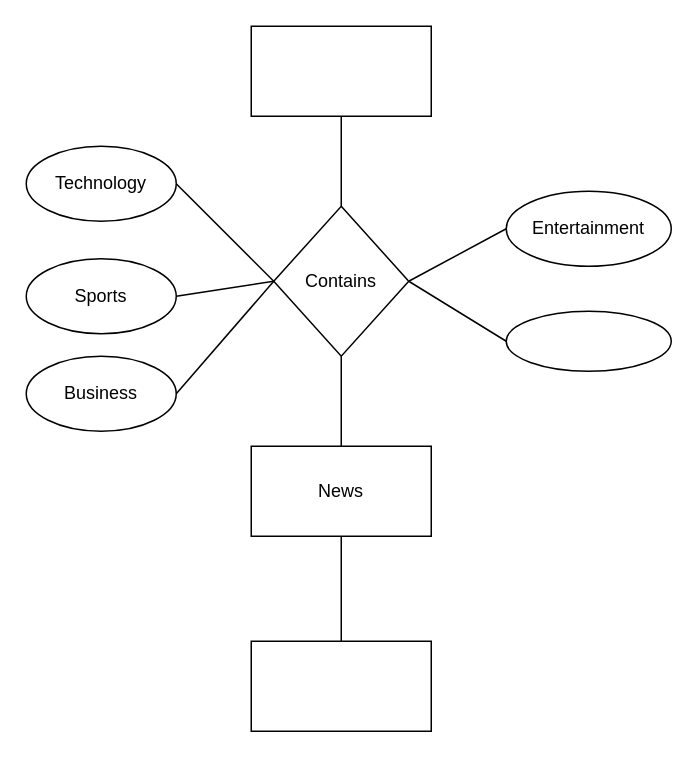
Image size: 698x758. Some labels were removed from this diagram. Here are the shapes that lost their labels. From the top down, the centre of each, then its label:
At point (340, 70): "Hamro Samaya".
At point (588, 340): "Health".
At point (340, 685): "Public".
